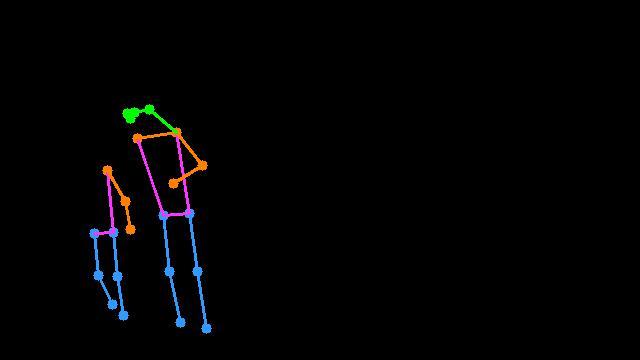normal: (63, 81, 217, 351)
